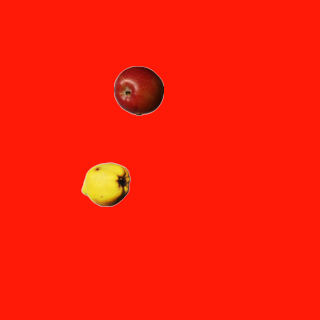Apple Braeburn: (113, 65, 163, 115)
Quince: (80, 159, 130, 209)
